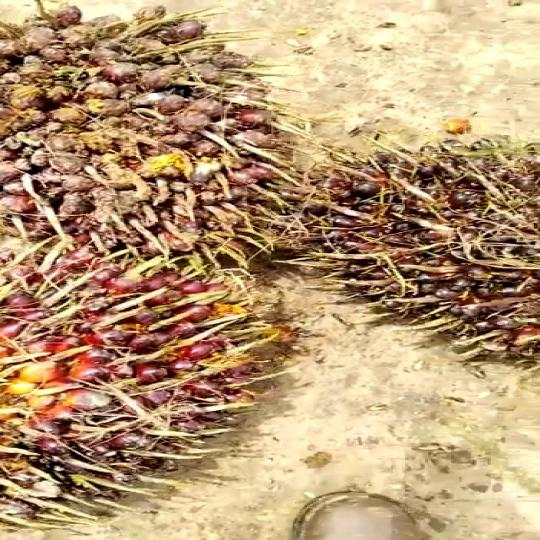kurang masak: (0, 247, 308, 512), (0, 4, 299, 260), (320, 107, 540, 370)
